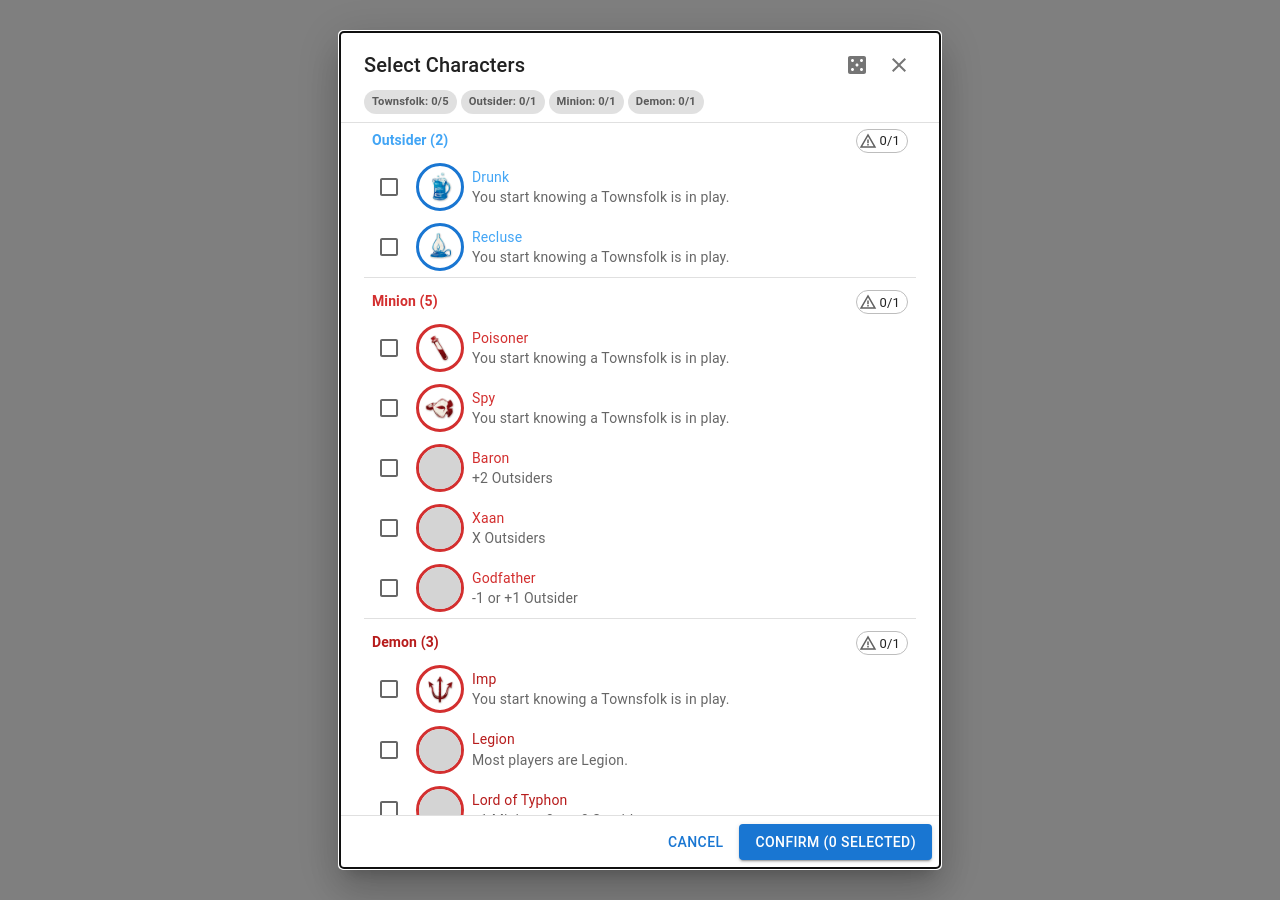
Test: CharacterSelection › adaptive targets and modifier chips › updates outsider target when Baron is selected
This screenshot has width=1280, height=900.
(page scrolled)
expect the element with test id "summary-chip-Outsider" reads "Outsider: 0/1": met, box [469,95,537,108]
Note: Select Baron
Click the button with test id "char-toggle-baron": (465, 468) [377,444,553,492]
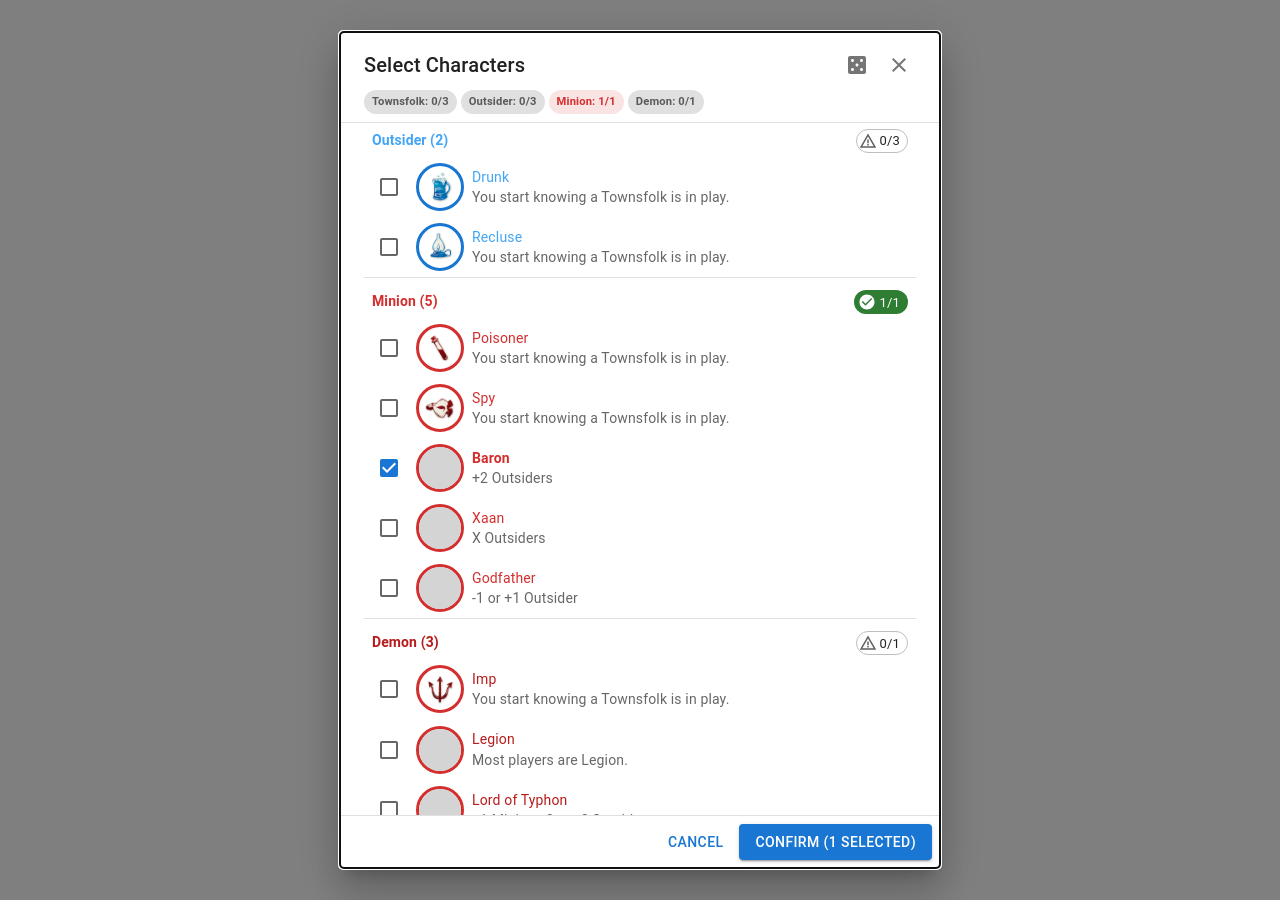
expect the element with test id "summary-chip-Outsider" reads "Outsider: 0/3": met, box [469,95,537,108]
